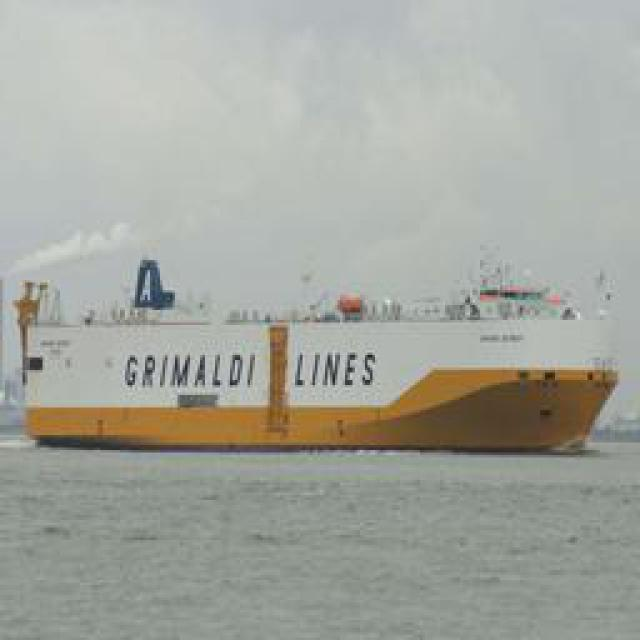Ship: (20, 261, 625, 456)
